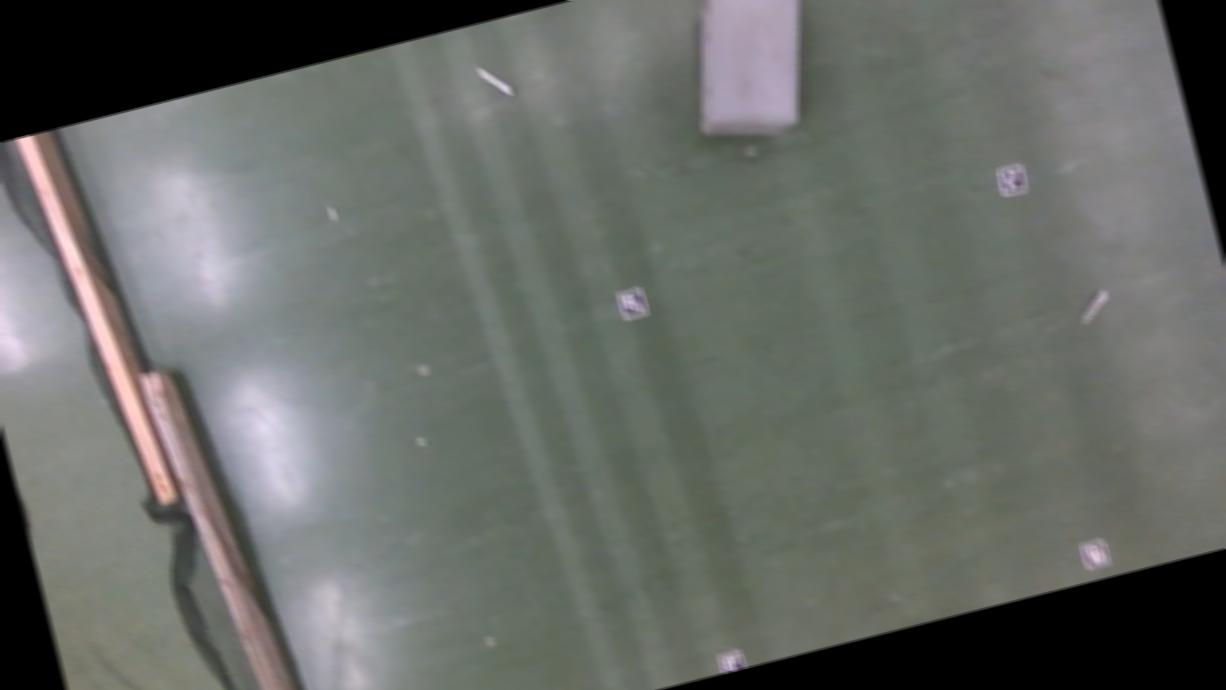probes: (476, 58, 513, 102), (1074, 288, 1111, 324)
rako: (667, 0, 831, 149)
